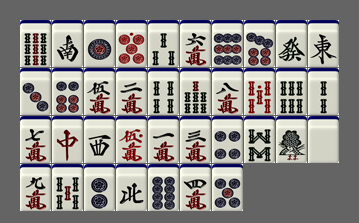0m: (116, 116, 147, 163)
0p: (116, 20, 147, 67)
0s: (244, 68, 275, 115)
1m: (148, 116, 179, 163)
1p: (84, 20, 115, 67)
1s: (276, 116, 307, 163)
1z: (308, 20, 339, 67)
2m: (116, 68, 147, 115)
2p: (84, 164, 115, 211)
2s: (308, 68, 339, 115)
2z: (52, 20, 83, 67)
3m: (180, 116, 211, 163)
3p: (20, 68, 51, 115)
3s: (148, 20, 179, 67)
3z: (84, 116, 115, 163)
4m: (180, 164, 211, 211)
4p: (212, 116, 243, 163)
4s: (148, 68, 179, 115)
4z: (116, 164, 147, 211)
5m: (84, 68, 115, 115)
5p: (212, 164, 243, 211)
5s: (52, 164, 83, 211)
5z: (308, 116, 339, 163)
6m: (180, 20, 211, 67)
6p: (52, 68, 83, 115)
6s: (276, 68, 307, 115)
6z: (276, 20, 307, 67)
7m: (20, 116, 51, 163)
7p: (244, 20, 275, 67)
7s: (180, 68, 211, 115)
7z: (52, 116, 83, 163)
8m: (212, 68, 243, 115)
8p: (148, 164, 179, 211)
8s: (244, 116, 275, 163)
9m: (20, 164, 51, 211)
9p: (212, 20, 243, 67)
9s: (20, 20, 51, 67)
